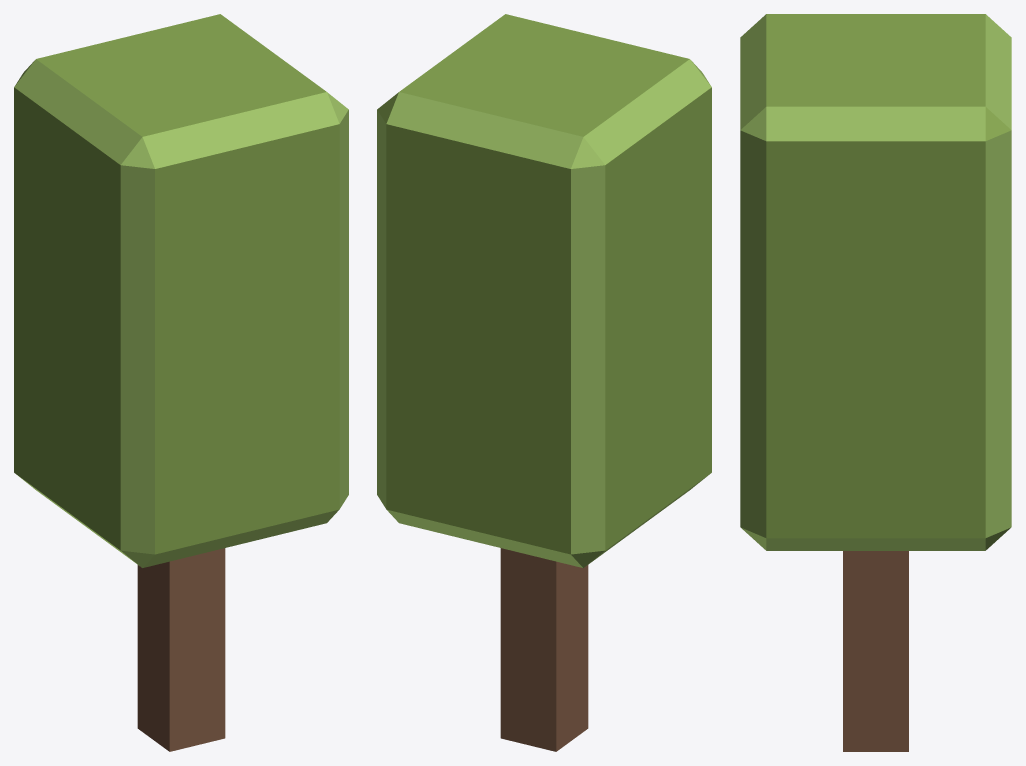
Rendered from voxel_tree_5.fbx.
The picture shows the model from 3 angles, left to right: view 1: azimuth 30°, elevation 25°; view 2: azimuth 150°, elevation 25°; view 3: azimuth 270°, elevation 25°; orthographic projection. The views are drawn at different scales.
Visible parts, largest first — view 1: voxel_tree_5; view 2: voxel_tree_5; view 3: voxel_tree_5.
Part boxes in pixels (<box>): voxel_tree_5: <box>14,14,348,751</box>; voxel_tree_5: <box>377,14,711,751</box>; voxel_tree_5: <box>740,14,1011,751</box>.
Size of the model in its own units: 184 by 507 by 184.
